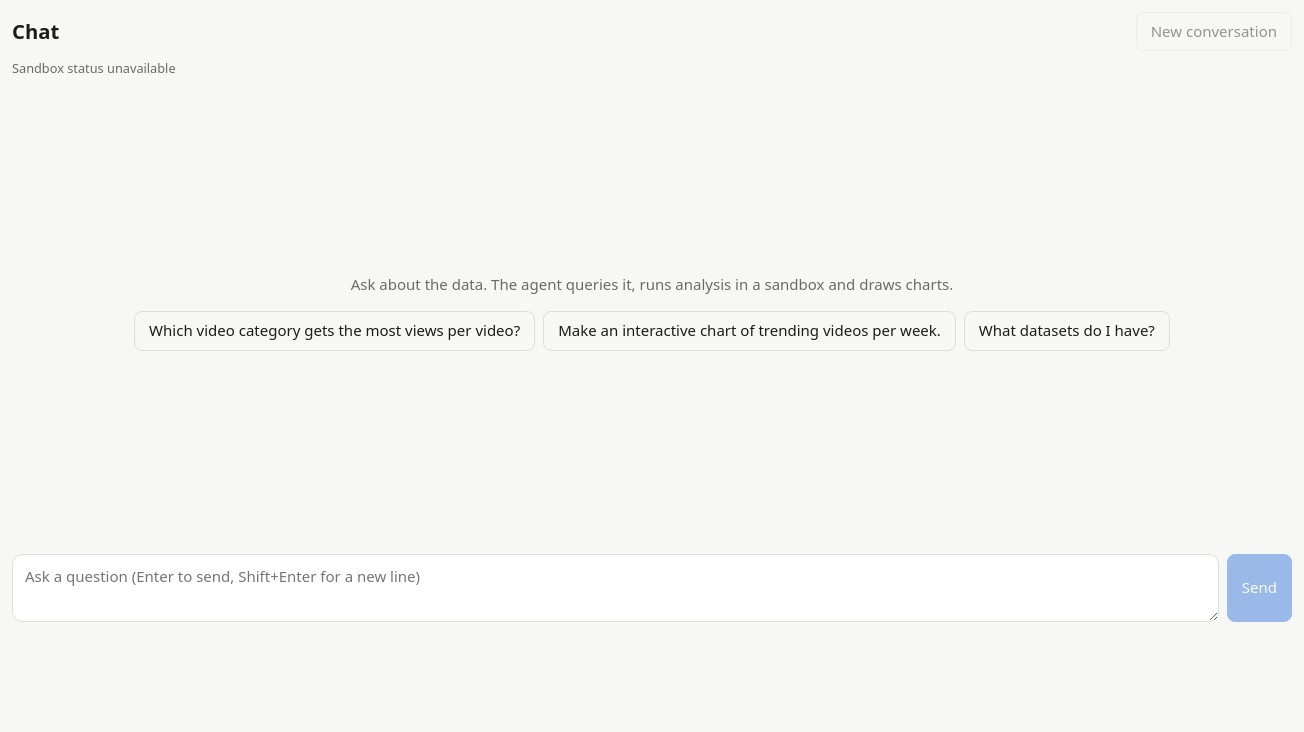
Test case: ChatPage › shows an error from the stream
The width and height of the screenshot is (1304, 732).
Type "hi" into the text box named "Message" at (615, 588), box [12,554,1219,622]
Then press Enter
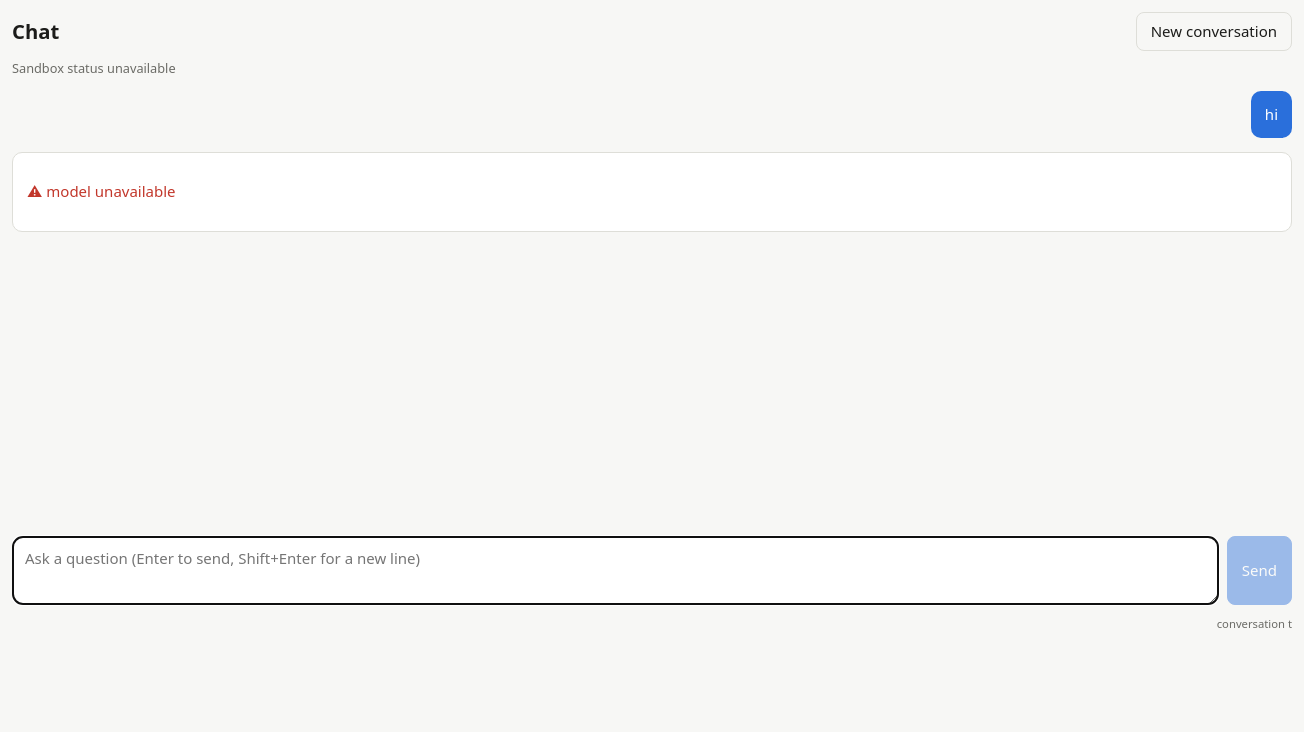
Check: the text "⚠ model unavailable" is shown, box [27,181,176,201]
